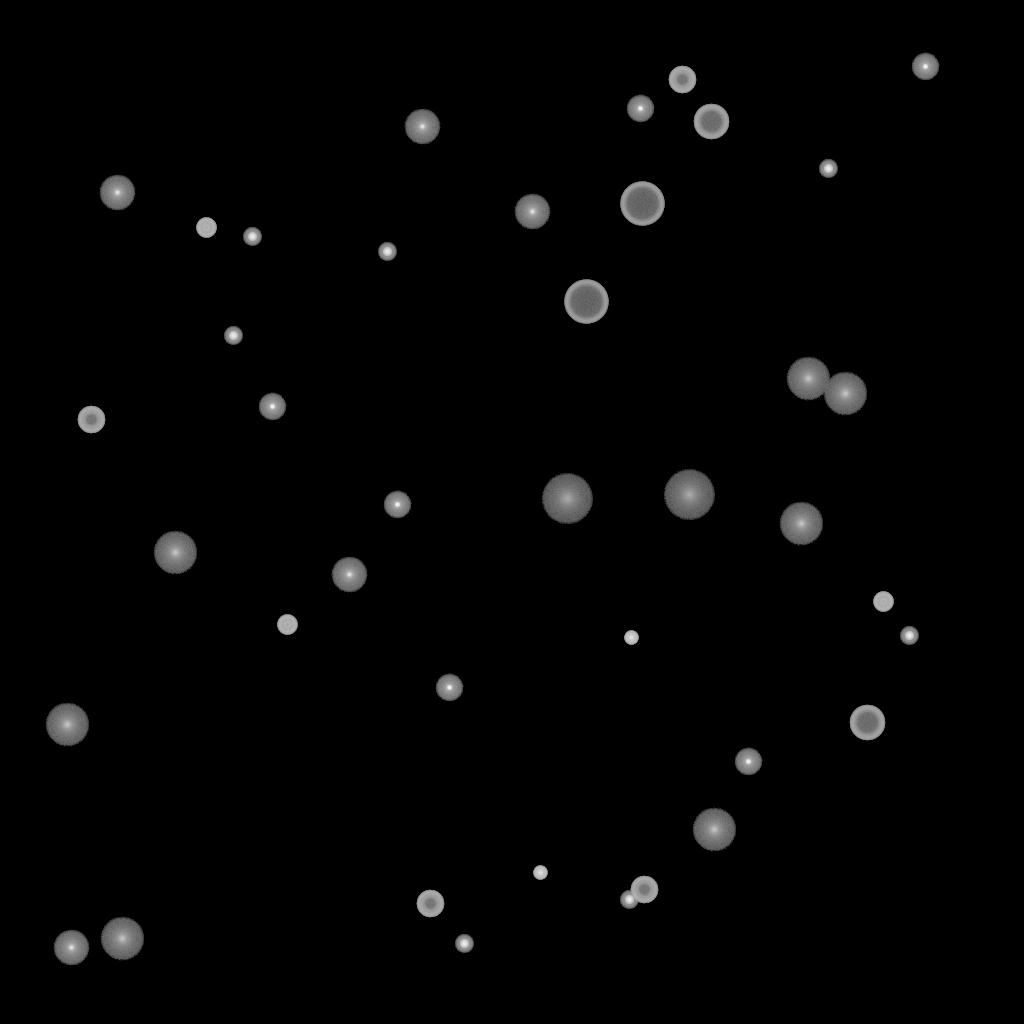depth:-10: (911, 53, 939, 81), (626, 95, 654, 123), (258, 393, 286, 421), (734, 748, 762, 776), (435, 674, 463, 702), (383, 491, 411, 519)
depth:-20: (243, 228, 261, 246), (224, 327, 242, 345), (819, 160, 837, 178), (455, 935, 473, 953), (378, 243, 396, 261), (620, 891, 638, 909), (900, 627, 918, 645)
depth:-30: (624, 631, 638, 645), (533, 866, 547, 880)
depth:-40: (277, 615, 297, 635), (196, 218, 216, 238), (873, 592, 893, 612)
depth:-50: (630, 876, 658, 904), (416, 890, 444, 918), (668, 66, 696, 94), (77, 406, 105, 434)
depth:-60: (693, 104, 729, 140), (849, 705, 885, 741)
depth:-70: (620, 182, 664, 226), (564, 280, 608, 324)
depth:0: (404, 109, 440, 145), (99, 175, 135, 211), (514, 194, 550, 230), (331, 557, 367, 593), (53, 930, 89, 966)
depth:10: (786, 357, 830, 401), (779, 502, 823, 546), (45, 703, 89, 747), (823, 372, 867, 416), (153, 531, 197, 575), (100, 917, 144, 961), (692, 808, 736, 852)
depth:20: (663, 470, 715, 520), (541, 474, 593, 524)
